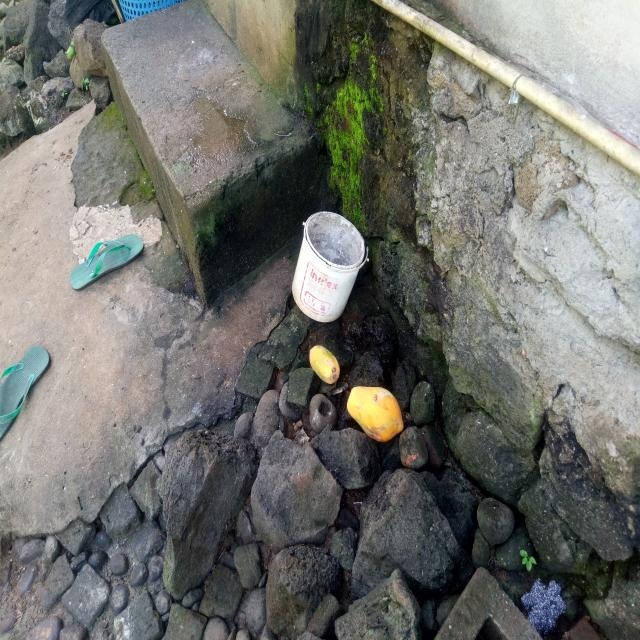Pepaya rippen: (347, 383, 398, 436), (301, 342, 337, 377)
